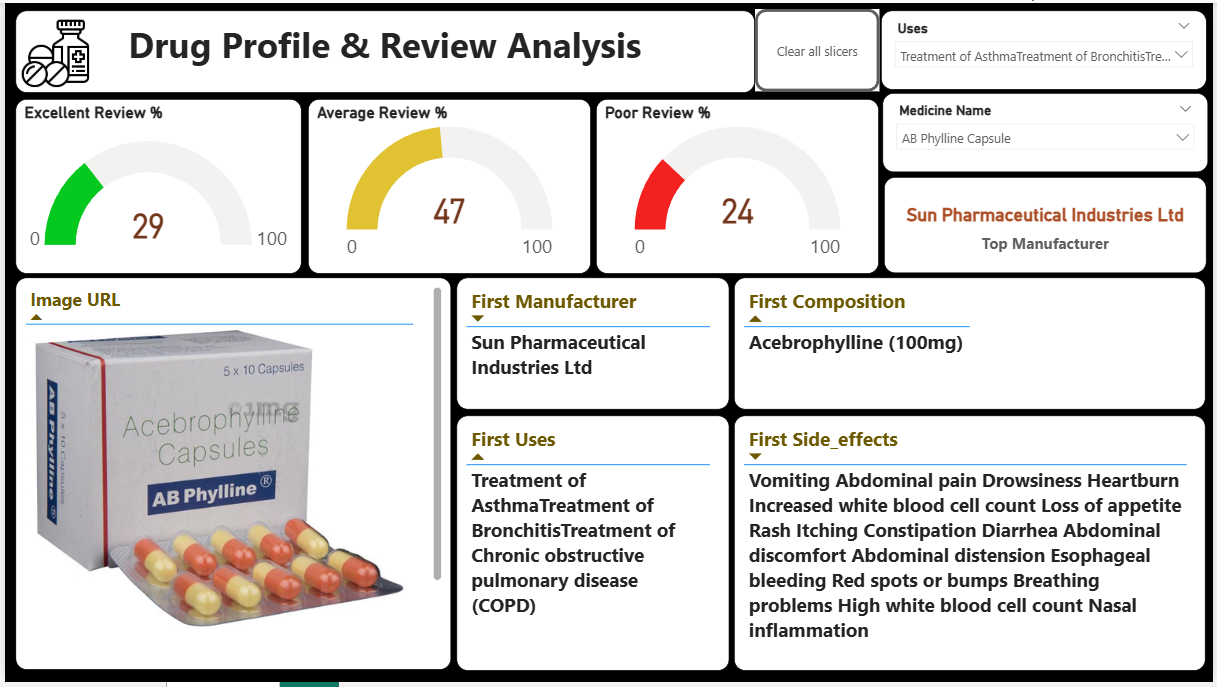

What the dashboard file says about the page in this screenshot:
{"tool":"powerbi","page":{"name":"Page 1","canvas":[1280,720],"ordinal":0},"visuals":[{"type":"slicer","fields":{"Values":["Medicine_Details.Medicine Name"]},"box":[930.5,95.4,345.2,84.3],"z":0},{"type":"tableEx","fields":{"Values":["Medicine_Details.Image URL"]},"box":[11.3,291.5,462,416.1],"z":1000},{"type":"gauge","title":"Excellent Review %","fields":{"Y":["Sum(Medicine_Details.Excellent Review %)"]},"box":[11.3,102,303,185],"z":2000},{"type":"gauge","title":"Poor Review %","fields":{"Y":["Sum(Medicine_Details.Poor Review %)"]},"box":[626.6,102,300,185],"z":3000},{"type":"gauge","title":"Average Review %","fields":{"Y":["Sum(Medicine_Details.Average Review %)"]},"box":[320.6,102,300,185],"z":4000},{"type":"tableEx","fields":{"Values":["Min(Medicine_Details.Composition)"]},"box":[772.4,291.5,500,140],"z":5000},{"type":"tableEx","fields":{"Values":["Min(Medicine_Details.Uses)"]},"box":[479.3,437.2,289,270.4],"z":6000},{"type":"tableEx","fields":{"Values":["Min(Medicine_Details.Manufacturer)"]},"box":[479.3,291.5,289,140],"z":7000},{"type":"tableEx","fields":{"Values":["Min(Medicine_Details.Side_effects)"]},"box":[773,437.4,500,270.4],"z":8000},{"type":"textbox","box":[11.1,8,784.2,87.5],"z":9000},{"type":"slicer","fields":{"Values":["Medicine_Details.Uses"]},"box":[928.9,8,345.2,84.3],"z":10000},{"type":"card","fields":{"Values":["Medicine_Details.Top Manufacturer"]},"box":[932.1,184.5,342,101.8],"z":12000},{"type":"image","box":[11.3,11.3,84.2,84.2],"z":13000},{"type":"actionButton","box":[795.3,6.4,132,87.5],"z":13001}]}

Visuals, with their boxes in screenshot pixels (x1, y1, x2, y2), scaled from the page's 1280x720 canvas onto the 1217x687 screenshot:
slicer - Medicine_Details.Medicine Name: <region>885, 91, 1213, 171</region>
tableEx - Medicine_Details.Image URL: <region>11, 278, 450, 675</region>
"Excellent Review %" gauge: <region>11, 97, 299, 274</region>
"Poor Review %" gauge: <region>596, 97, 881, 274</region>
"Average Review %" gauge: <region>305, 97, 590, 274</region>
tableEx - Min(Medicine_Details.Composition): <region>734, 278, 1210, 412</region>
tableEx - Min(Medicine_Details.Uses): <region>456, 417, 730, 675</region>
tableEx - Min(Medicine_Details.Manufacturer): <region>456, 278, 730, 412</region>
tableEx - Min(Medicine_Details.Side_effects): <region>735, 417, 1210, 675</region>
textbox: <region>11, 8, 756, 91</region>
slicer - Medicine_Details.Uses: <region>883, 8, 1211, 88</region>
card - Medicine_Details.Top Manufacturer: <region>886, 176, 1211, 273</region>
image: <region>11, 11, 91, 91</region>
actionButton: <region>756, 6, 882, 90</region>
